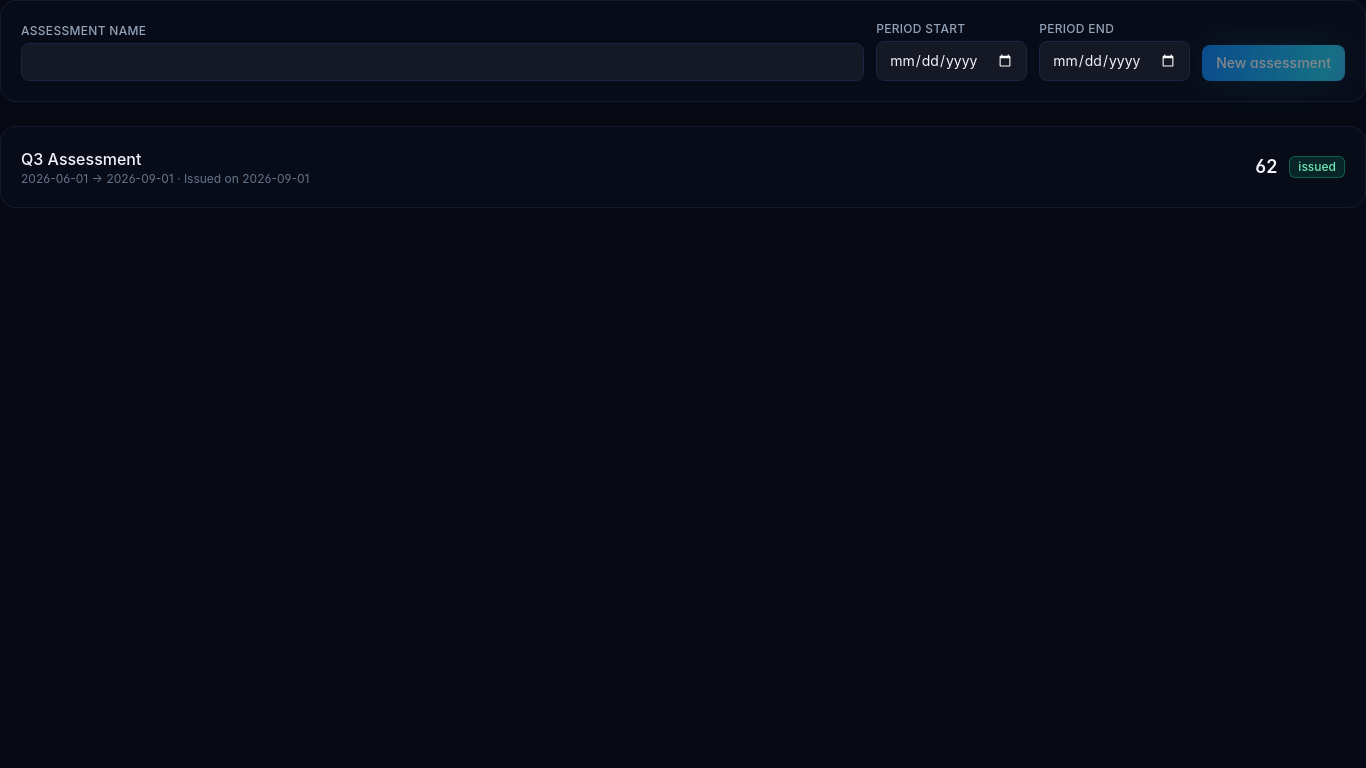
Test: AssessmentsTab — an issued assessment renders its FROZEN snapshot › loads frozen findings for an issued assessment
Click the button "Q3 Assessment": (81, 159) [21,147,1345,187]
(page scrolled)
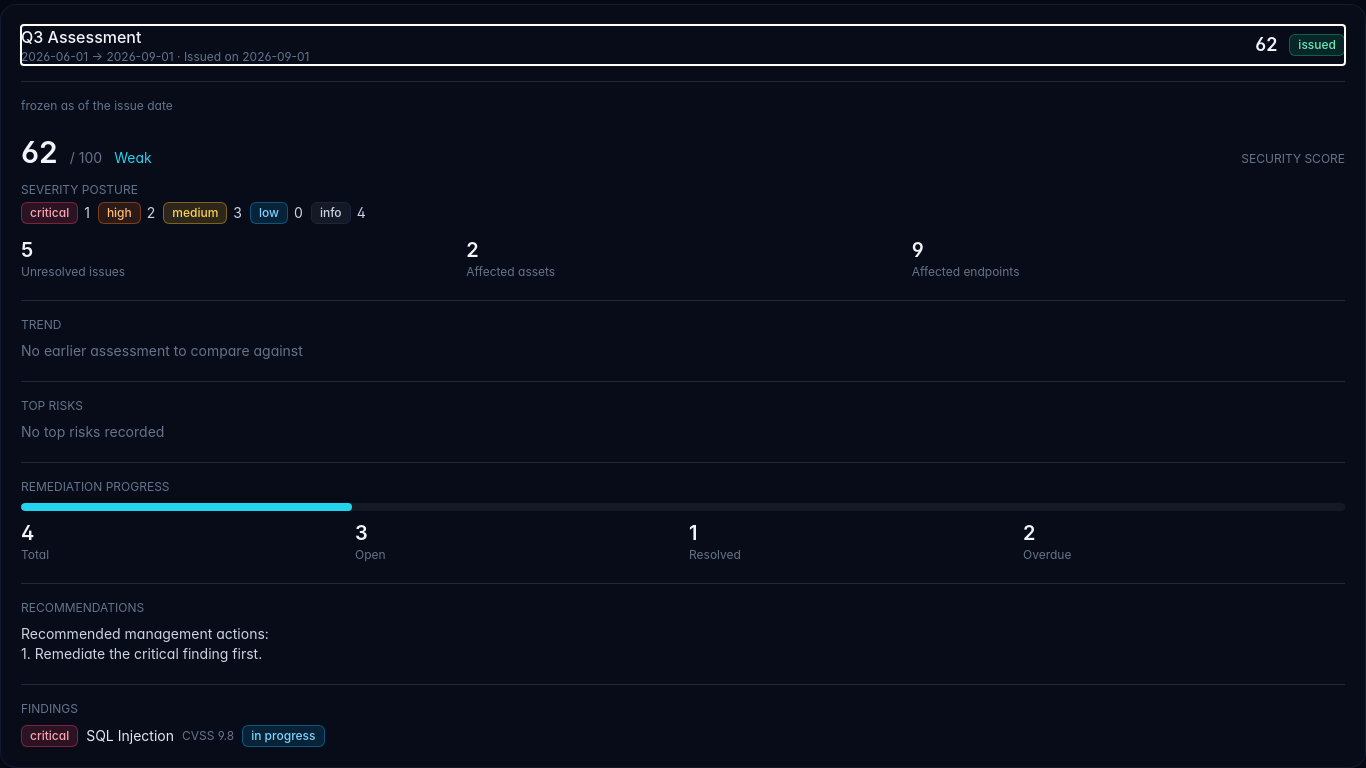
Expected: the text "SQL Injection" is shown, [86,726,174,746]
Expected: the text "CVSS 9.8" is shown, [182,728,234,744]
